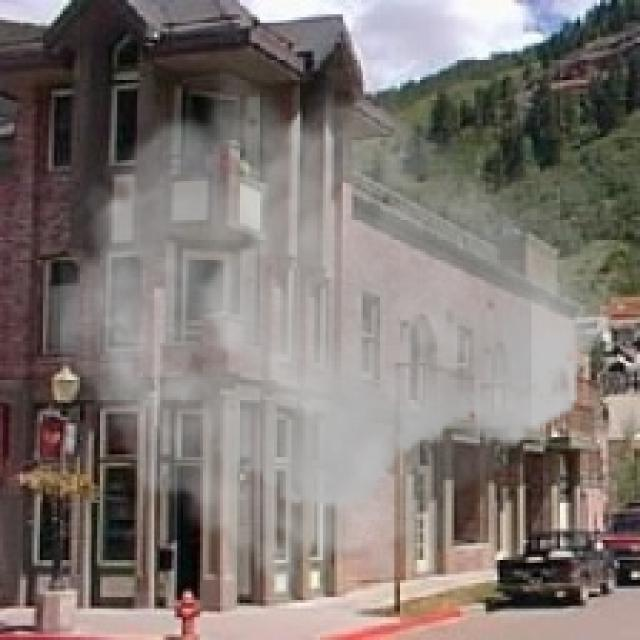Smoke: (60, 57, 626, 609)
